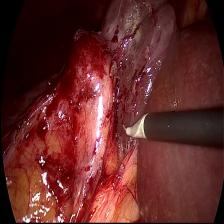Hook: (118, 109, 151, 146)
